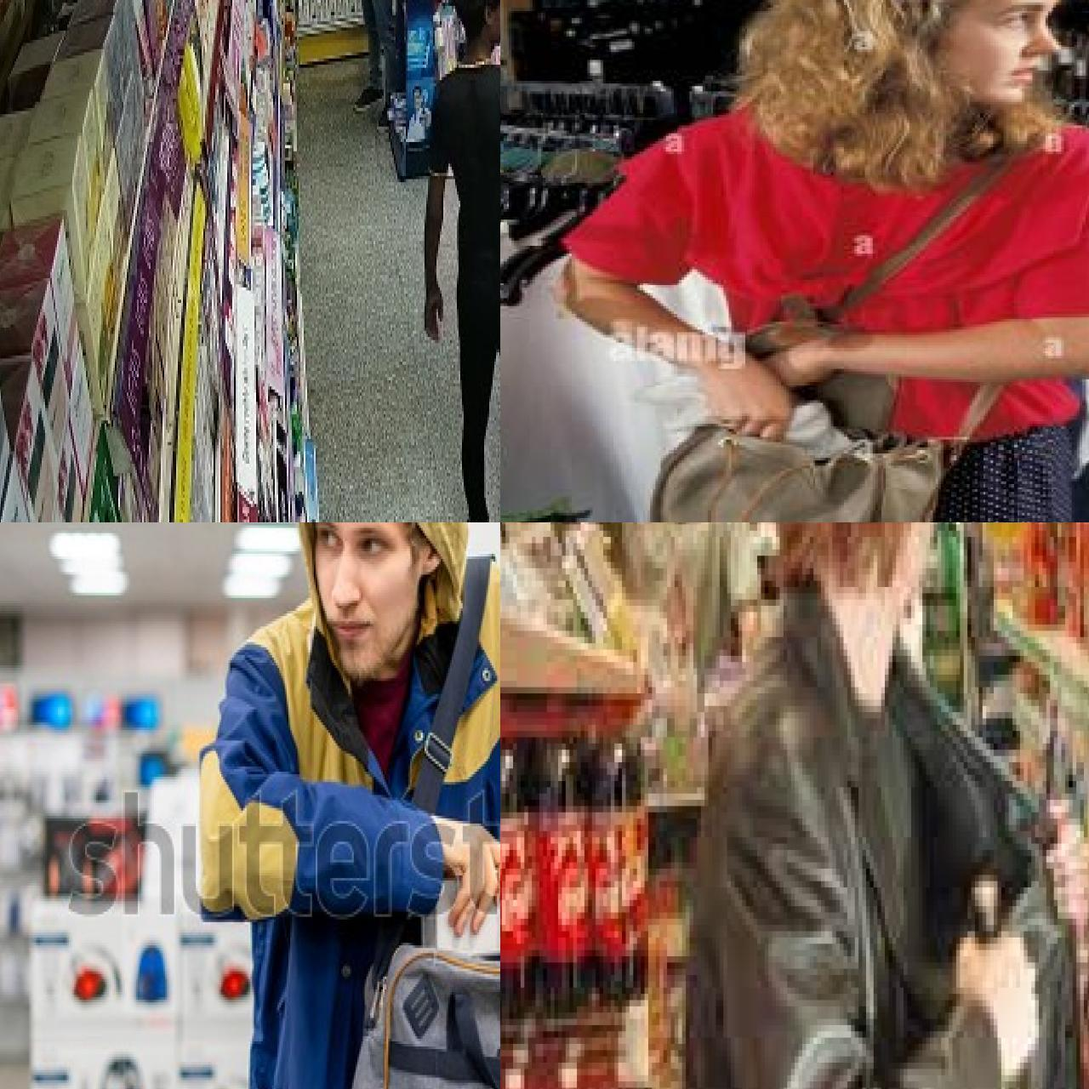shoplifting: (505, 1, 1086, 520), (0, 523, 499, 1089), (605, 529, 1089, 1089)
